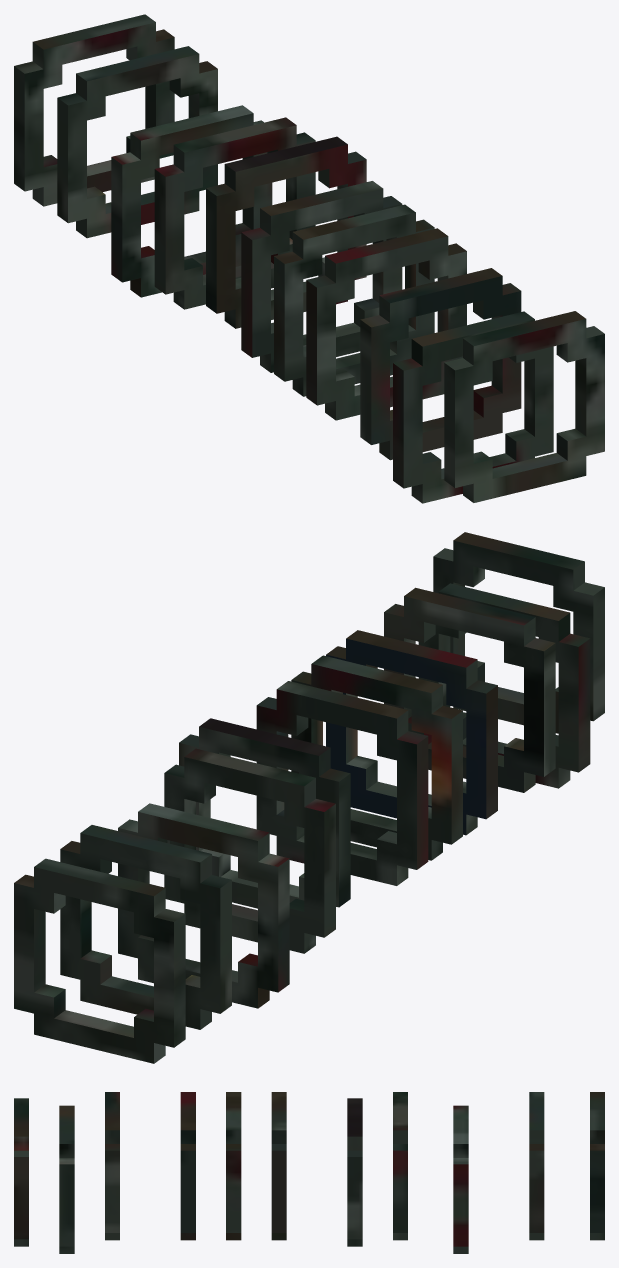
Rendered from BarbedWires.glb.
3 views of the same model, one above another, from view 1: azimuth 30°, elevation 25°; view 2: azimuth 150°, elevation 25°; view 3: azimuth 270°, elevation 25° (orthographic). The views are drawn at different scales.
Visible parts, largest first — view 1: BarbedWires; view 2: BarbedWires; view 3: BarbedWires.
Part boxes in pixels (x1,y1,x2,y2): BarbedWires: (14, 14, 604, 503); BarbedWires: (14, 532, 604, 1063); BarbedWires: (14, 1092, 604, 1253).
Bounding box in the file's own units: 0.4499 × 0.4499 × 1.95.
1 material, 1 textured.
